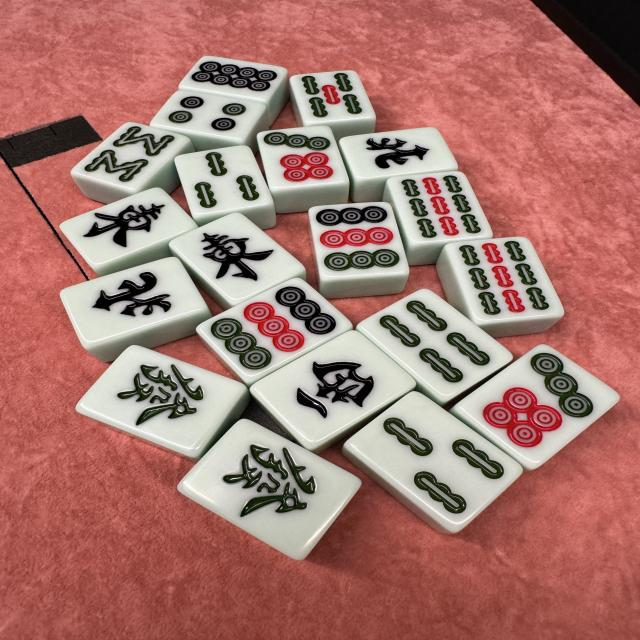hdg: (179, 418, 363, 559), (74, 345, 247, 458)
hwe: (170, 212, 306, 306), (59, 187, 198, 267)
hwn: (59, 256, 208, 347), (341, 126, 457, 179)
hww: (248, 330, 416, 451)
sb3: (343, 390, 523, 530), (173, 145, 274, 216)
sb4: (358, 288, 514, 401)
sb5: (288, 70, 377, 124)
sb8: (68, 121, 190, 189)
sb9: (444, 236, 566, 325), (387, 170, 493, 243)
sd4: (150, 90, 267, 140)
sd7: (454, 343, 620, 468), (258, 125, 350, 189)
sd8: (178, 56, 288, 101)
sd9: (197, 277, 351, 381), (308, 202, 408, 278)
